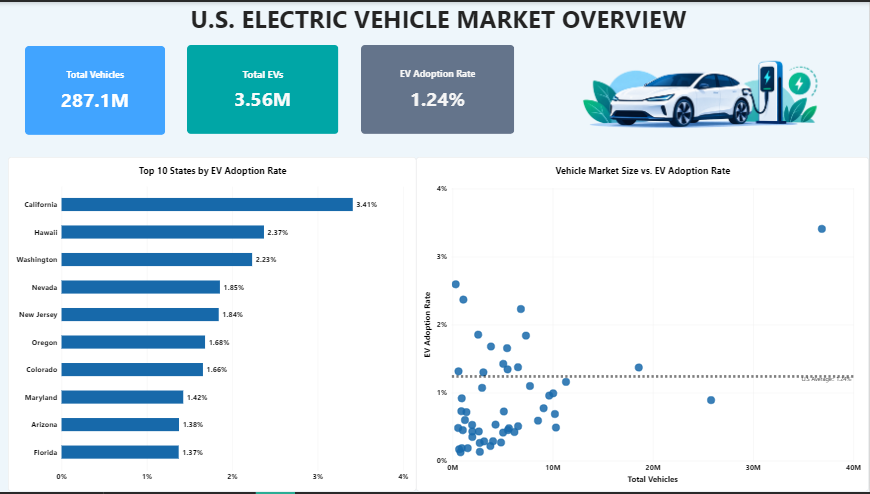

The page's visual inventory and layout, read from the dashboard file:
{"tool":"powerbi","page":{"name":"U.S EV Market Overview","canvas":[1920,1080],"ordinal":0},"visuals":[{"type":"clusteredBarChart","title":"Top 10 States by EV Adoption Rate","fields":{"Category":["EV Vehicle Registrations.State"],"Y":["Measure Table.EV Adoption Rate"]},"box":[21.2,342.3,900,736.5],"z":0},{"type":"scatterChart","title":"Vehicle Market Size vs. EV Adoption Rate","fields":{"Category":["EV Vehicle Registrations.State"],"X":["Measure Table.Total Vehicles"],"Y":["Measure Table.EV Adoption Rate"]},"box":[921.2,342.3,998.1,736.5],"z":1000},{"type":"cardVisual","title":"Total Vehicles","fields":{"Data":["Measure Table.Total Vehicles"]},"box":[59.6,96.2,309.6,196.2],"z":2000},{"type":"cardVisual","title":"Total Vehicles","fields":{"Data":["Measure Table.Total EVs"]},"box":[417.3,95,334.6,196.2],"z":3000},{"type":"cardVisual","title":"Total Vehicles","fields":{"Data":["Measure Table.EV Adoption Rate"]},"box":[800,95,338.5,196.2],"z":4000},{"type":"textbox","box":[21.2,0,1898.1,96.2],"z":5000},{"type":"image","box":[1165,95,755,197.5],"z":6000}]}

Visuals, with their boxes in screenshot pixels (x1, y1, x2, y2), scaled from the page's 1920x1080 canvas onto the 870x494 screenshot:
"Top 10 States by EV Adoption Rate" clusteredBarChart: 10, 157, 417, 493
"Vehicle Market Size vs. EV Adoption Rate" scatterChart: 417, 157, 869, 493
"Total Vehicles" cardVisual: 27, 44, 167, 134
"Total Vehicles" cardVisual: 189, 43, 341, 133
"Total Vehicles" cardVisual: 362, 43, 516, 133
textbox: 10, 0, 869, 44
image: 528, 43, 869, 134
